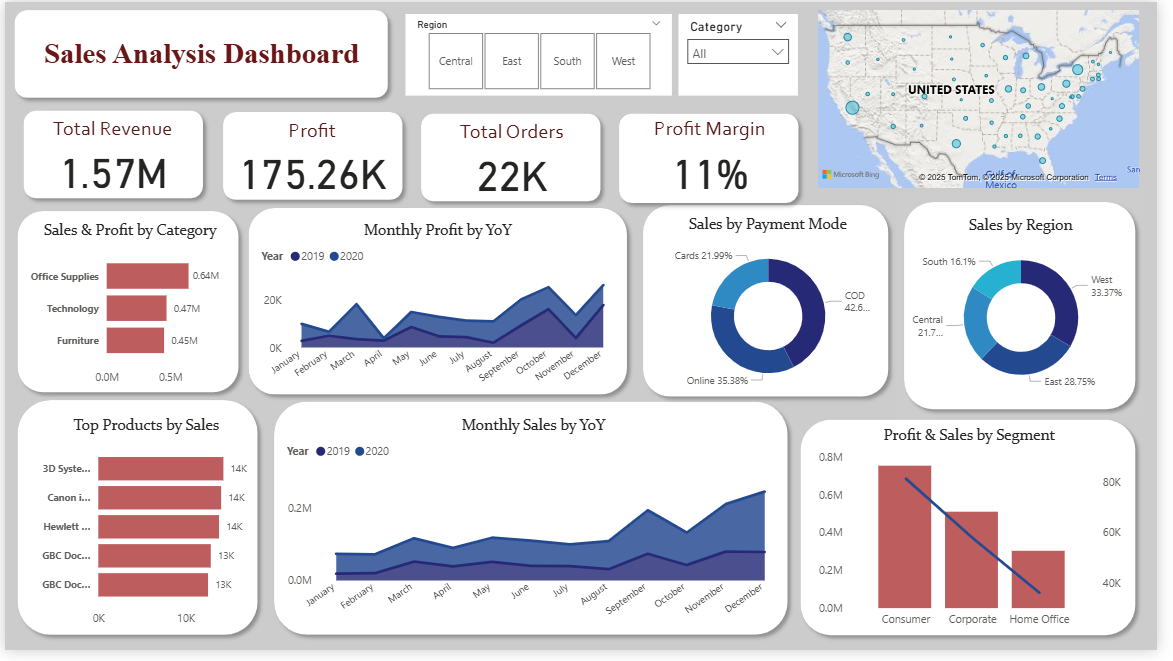

The page's visual inventory and layout, read from the dashboard file:
{"tool":"powerbi","page":{"name":"Page 1","canvas":[1280,720],"ordinal":0},"visuals":[{"type":"shape","box":[261.7,220,438.3,225],"z":0},{"type":"shape","box":[290.4,434.6,588.5,276.9],"z":1000},{"type":"shape","box":[5.8,432.7,284.6,278.8],"z":2000},{"type":"shape","box":[875,455,390,257.5],"z":3000},{"type":"shape","box":[700,228.3,290,220],"z":4000},{"type":"shape","box":[990.4,213.5,275,248.1],"z":5000},{"type":"shape","box":[11.5,111.5,217.3,115.4],"z":6000},{"type":"shape","box":[5.8,223.1,263.5,219.2],"z":7000},{"type":"clusteredBarChart","title":" Sales & Profit by Category","fields":{"Category":["SuperStore_Sales_Dataset.Category"],"Y":["Sum(SuperStore_Sales_Dataset.Sales)"]},"box":[21.2,236.5,234.6,198.1],"z":8000},{"type":"clusteredBarChart","title":"Top Products  by Sales","fields":{"Y":["Sum(SuperStore_Sales_Dataset.Sales)"],"Category":["SuperStore_Sales_Dataset.Product Name"]},"box":[23.1,453.8,267.3,250],"z":9000},{"type":"stackedAreaChart","title":" Monthly Sales by YoY","fields":{"Category":["SuperStore_Sales_Dataset.Order Date.Variation.Date Hierarchy.Month","SuperStore_Sales_Dataset.Order Date.Variation.Date Hierarchy.Day"],"Y":["Sum(SuperStore_Sales_Dataset.Sales)"],"Series":["SuperStore_Sales_Dataset.Order Date.Variation.Date Hierarchy.Year"]},"box":[307.7,453.8,557.7,240.4],"z":10000},{"type":"stackedAreaChart","title":"Monthly Profit by YoY","fields":{"Category":["SuperStore_Sales_Dataset.Order Date.Variation.Date Hierarchy.Month","SuperStore_Sales_Dataset.Order Date.Variation.Date Hierarchy.Day"],"Series":["SuperStore_Sales_Dataset.Order Date.Variation.Date Hierarchy.Year"],"Y":["Sum(SuperStore_Sales_Dataset.Profit)"]},"box":[280,236.7,401.7,198.3],"z":11000},{"type":"map","title":"Map","fields":{"Category":["SuperStore_Sales_Dataset.State"],"Size":["Sum(SuperStore_Sales_Dataset.Sales)"]},"box":[898.1,3.8,367.3,207.7],"z":12000},{"type":"lineClusteredColumnComboChart","title":" Profit & Sales by Segment","fields":{"Category":["SuperStore_Sales_Dataset.Segment"],"Y":["Sum(SuperStore_Sales_Dataset.Sales)"],"Y2":["Sum(SuperStore_Sales_Dataset.Profit)"]},"box":[898.1,465.4,346.2,238.5],"z":13000},{"type":"donutChart","title":"Sales by Payment Mode","fields":{"Category":["SuperStore_Sales_Dataset.Payment Mode"],"Y":["Sum(SuperStore_Sales_Dataset.Sales)"]},"box":[718.3,245,251.7,196.7],"z":14000},{"type":"donutChart","title":"Sales by Region","fields":{"Y":["Sum(SuperStore_Sales_Dataset.Sales)"],"Category":["SuperStore_Sales_Dataset.Region"]},"box":[1001.9,236.5,253.8,205.8],"z":15000},{"type":"card","title":"Total Revenue","fields":{"Values":["Sum(SuperStore_Sales_Dataset.Sales)"]},"box":[28.8,123.1,182.7,92.3],"z":16000},{"type":"shape","box":[232.7,113.5,217.3,115.4],"z":17000},{"type":"card","title":"Profit","fields":{"Values":["Sum(SuperStore_Sales_Dataset.Profit)"]},"box":[250,125,182.7,92.3],"z":18000},{"type":"shape","box":[453.8,115.4,217.3,115.4],"z":19000},{"type":"card","title":"Total Orders","fields":{"Values":["Sum(SuperStore_Sales_Dataset.Quantity)"]},"box":[471.2,126.9,182.7,92.3],"z":20000},{"type":"shape","box":[673.1,115.4,217.3,117.3],"z":21000},{"type":"card","title":"Profit Margin","fields":{"Values":["SuperStore_Sales_Dataset.Profit Margin %"]},"box":[692.3,123.1,182.7,94.2],"z":22000},{"type":"shape","box":[1.9,0,432.7,115.4],"z":23000},{"type":"slicer","fields":{"Values":["SuperStore_Sales_Dataset.Region"]},"box":[444.2,13.5,296.2,90.4],"z":24000},{"type":"slicer","fields":{"Values":["SuperStore_Sales_Dataset.Category"]},"box":[748.1,13.5,132.7,90.4],"z":25000},{"type":"textbox","box":[3.3,25,428.3,56.7],"z":26000},{"type":"textbox","box":[85,58.3,256.7,45],"z":27000}]}

Visuals, with their boxes in screenshot pixels (x1, y1, x2, y2), scaled from the page's 1280x720 canvas onto the 1173x661 screenshot:
shape: (240, 202, 641, 409)
shape: (266, 399, 805, 653)
shape: (5, 397, 266, 653)
shape: (802, 418, 1159, 654)
shape: (641, 210, 907, 412)
shape: (908, 196, 1160, 424)
shape: (11, 102, 210, 208)
shape: (5, 205, 247, 406)
" Sales & Profit by Category" clusteredBarChart: (19, 217, 234, 399)
"Top Products  by Sales" clusteredBarChart: (21, 417, 266, 646)
" Monthly Sales by YoY" stackedAreaChart: (282, 417, 793, 637)
"Monthly Profit by YoY" stackedAreaChart: (257, 217, 625, 399)
"Map" map: (823, 3, 1160, 194)
" Profit & Sales by Segment" lineClusteredColumnComboChart: (823, 427, 1140, 646)
"Sales by Payment Mode" donutChart: (658, 225, 889, 406)
"Sales by Region" donutChart: (918, 217, 1151, 406)
"Total Revenue" card: (26, 113, 194, 198)
shape: (213, 104, 412, 210)
"Profit" card: (229, 115, 397, 199)
shape: (416, 106, 615, 212)
"Total Orders" card: (432, 117, 599, 201)
shape: (617, 106, 816, 214)
"Profit Margin" card: (634, 113, 802, 199)
shape: (2, 0, 398, 106)
slicer - SuperStore_Sales_Dataset.Region: (407, 12, 679, 95)
slicer - SuperStore_Sales_Dataset.Category: (686, 12, 807, 95)
textbox: (3, 23, 396, 75)
textbox: (78, 54, 313, 95)
